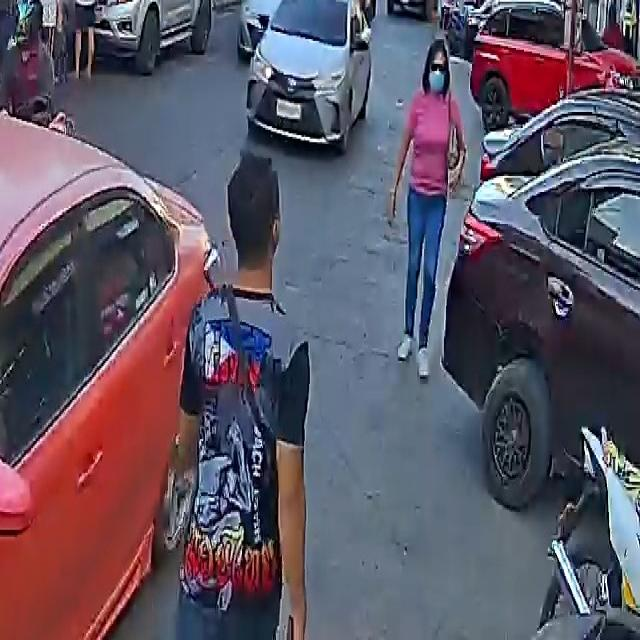car: (0, 94, 254, 640), (443, 106, 640, 521), (464, 0, 640, 130), (242, 0, 372, 151), (76, 0, 223, 68), (240, 0, 308, 50), (387, 0, 431, 9)
